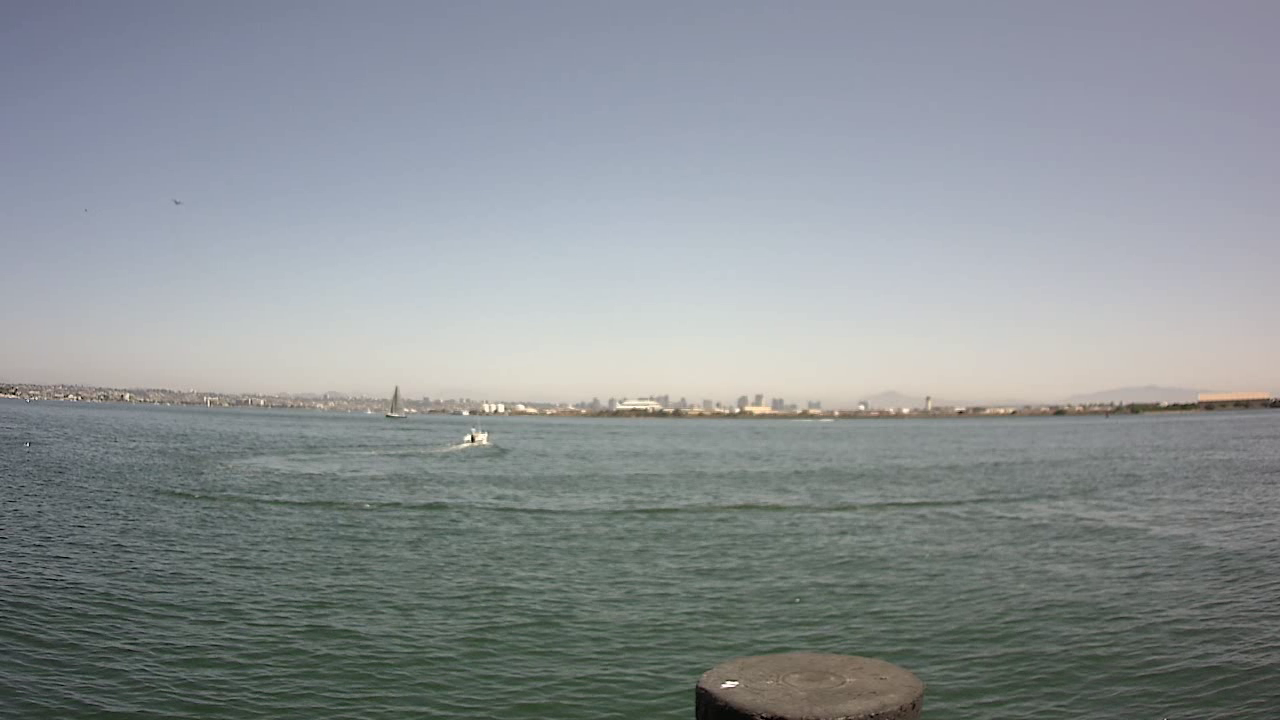target: (448, 422, 508, 449)
